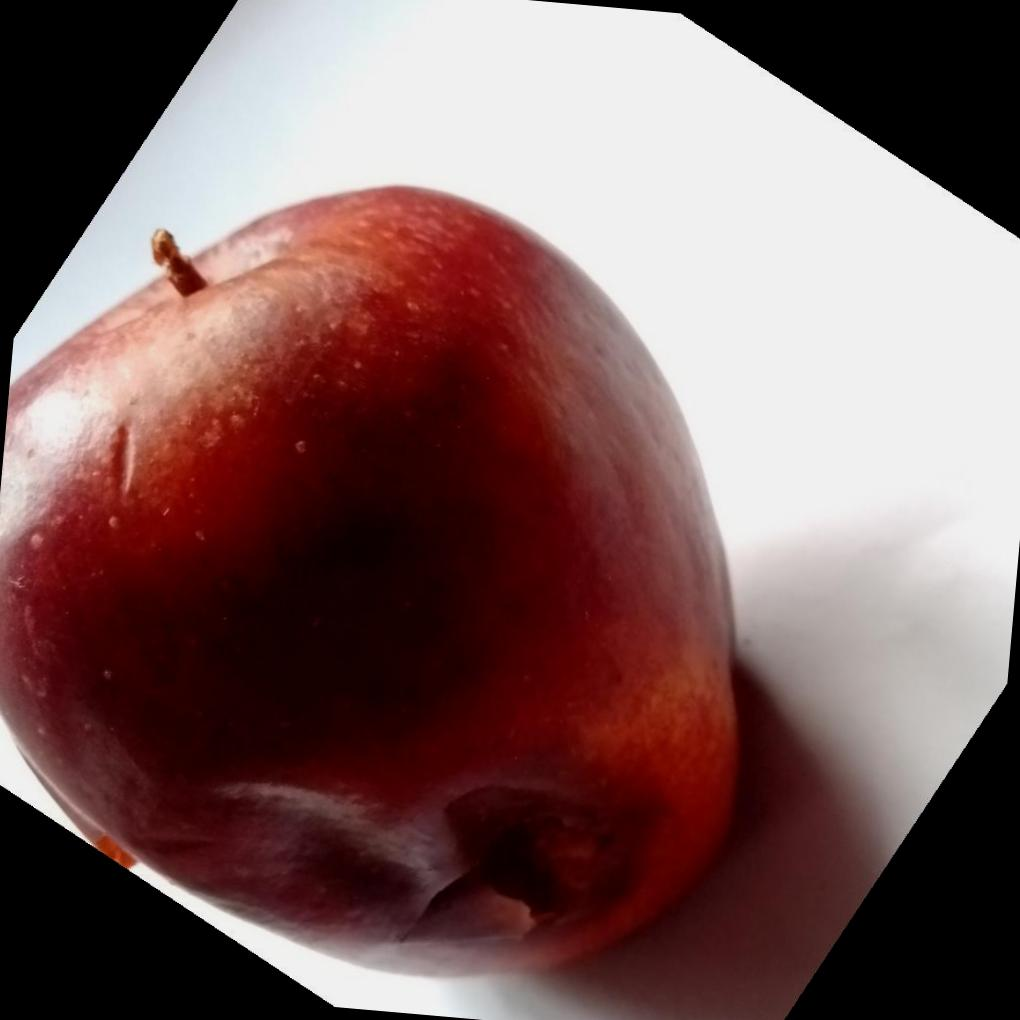FreshOrange: (0, 185, 744, 984)
